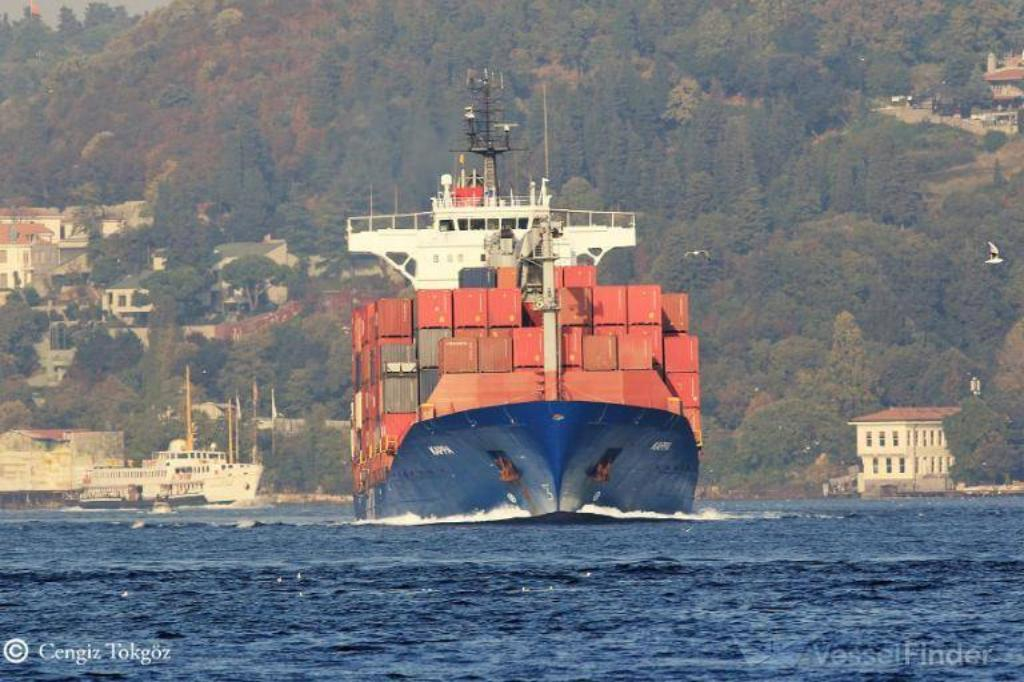PassengerShip: (74, 437, 268, 513)
